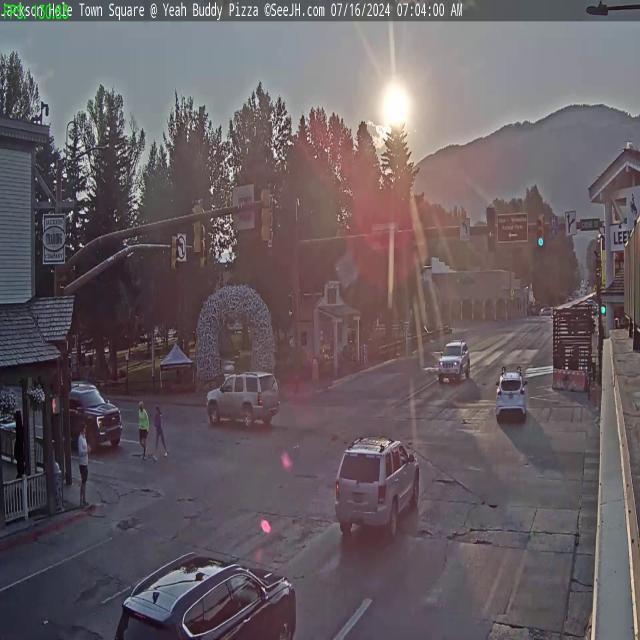person: (78, 422, 89, 502), (154, 404, 168, 460), (137, 400, 149, 460)
pickup: (56, 382, 125, 456)
suv: (110, 548, 302, 640), (334, 435, 422, 543), (206, 373, 278, 431), (495, 368, 528, 420), (438, 337, 470, 384)
traffic light: (260, 184, 274, 244), (190, 200, 203, 256), (486, 206, 496, 252), (536, 215, 546, 248)
